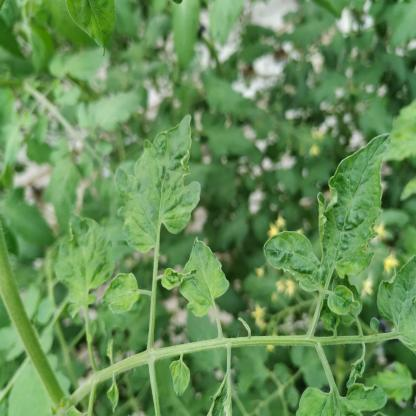T_L_H: (67, 1, 116, 56)
T_L_R: (117, 116, 202, 253), (321, 135, 390, 290), (163, 239, 230, 317), (265, 233, 321, 292)
T_S_H: (73, 341, 216, 406), (231, 336, 387, 349)
